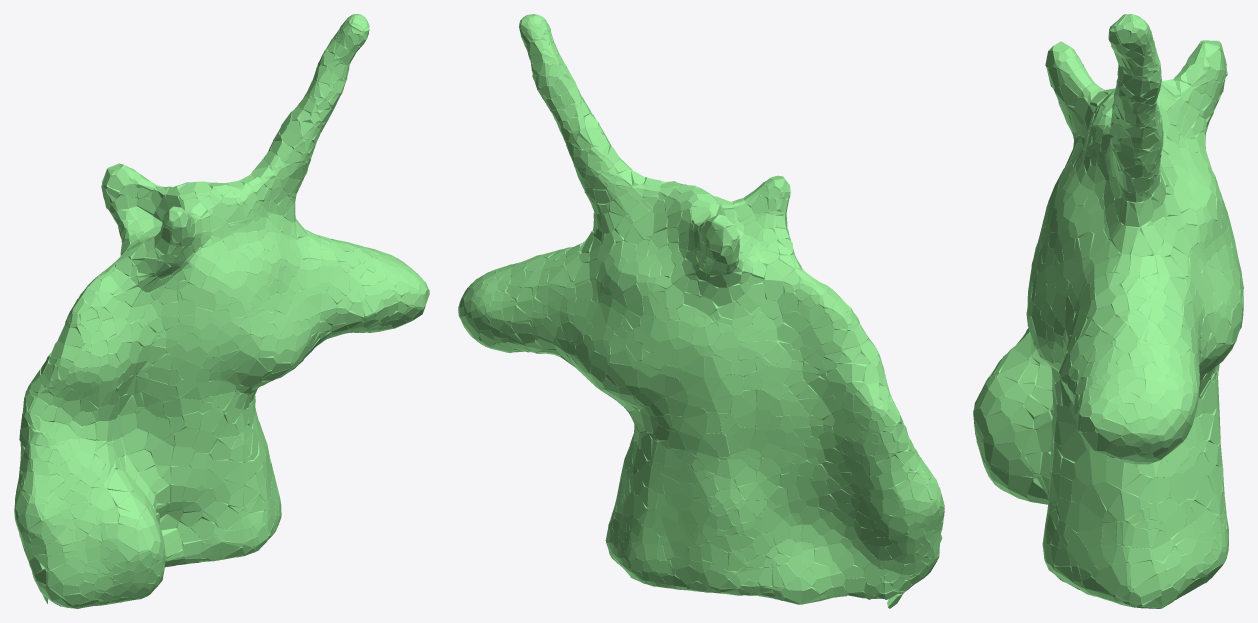
File: 55932_0.5pct_vorolight.glb
3 views of the same model, side by side, from view 1: azimuth 30°, elevation 25°; view 2: azimuth 150°, elevation 25°; view 3: azimuth 270°, elevation 25° (orthographic). The views are drawn at different scales.
Parts seen in each view (by area): view 1: 55932_shape50_normal10_noise_0.5pct_voronoi_mesh_surface.obj; view 2: 55932_shape50_normal10_noise_0.5pct_voronoi_mesh_surface.obj; view 3: 55932_shape50_normal10_noise_0.5pct_voronoi_mesh_surface.obj.
Boxes of the visible parts, box(x1,y1,x2,y2) form: 55932_shape50_normal10_noise_0.5pct_voronoi_mesh_surface.obj: box(14, 14, 429, 608); 55932_shape50_normal10_noise_0.5pct_voronoi_mesh_surface.obj: box(458, 14, 944, 608); 55932_shape50_normal10_noise_0.5pct_voronoi_mesh_surface.obj: box(973, 14, 1243, 608).
Size of the model in its own units: 1.27 by 1.41 by 0.522.
